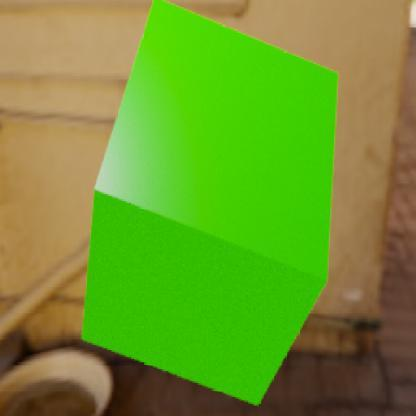cube: (80, 0, 339, 408)
